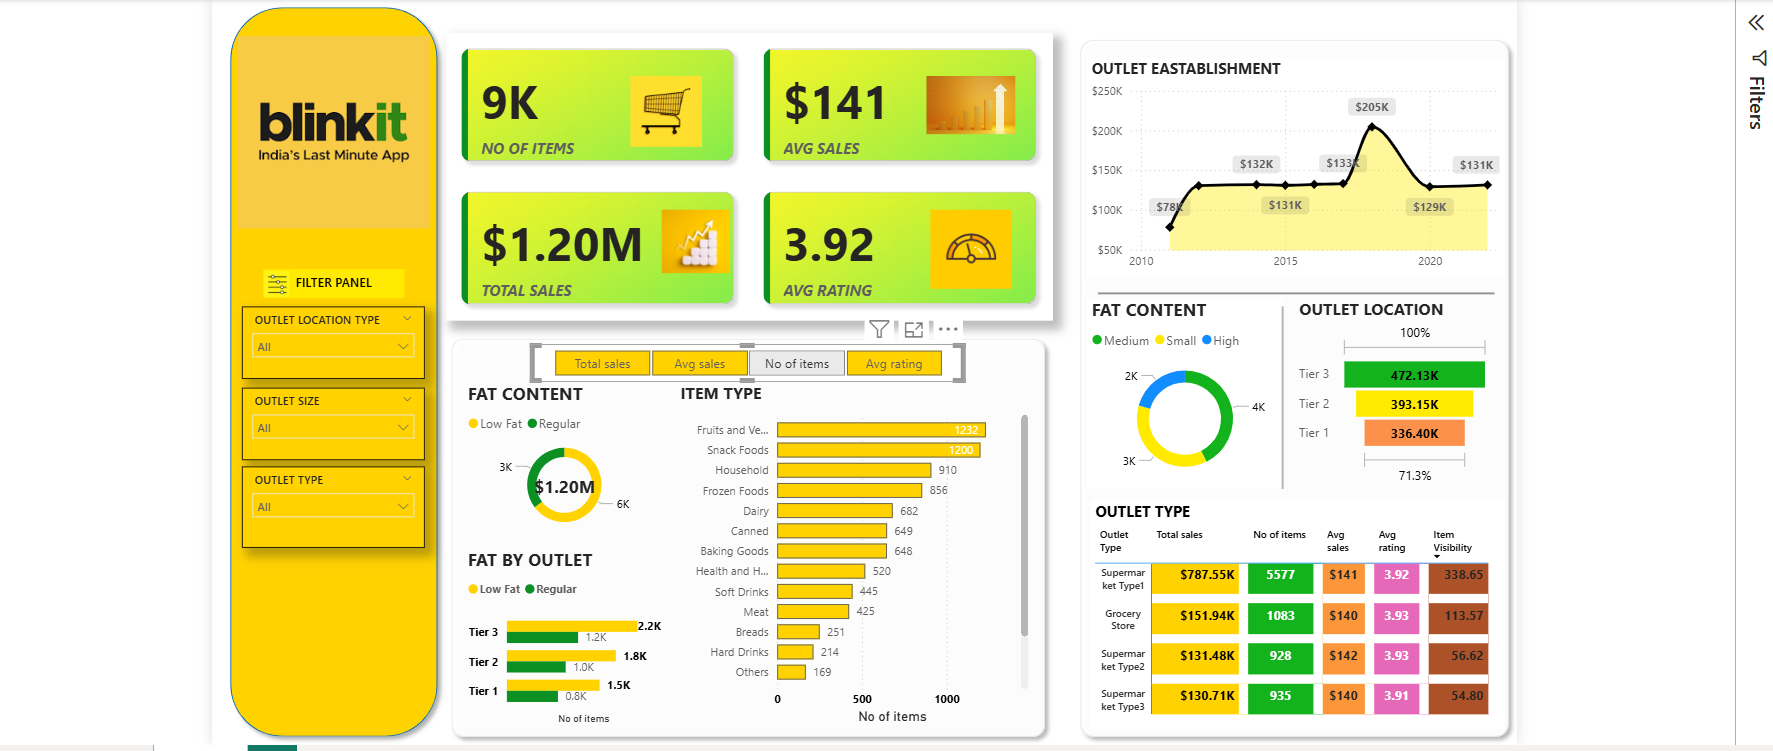

This screenshot's page, from the dashboard's own definition file:
{"tool":"powerbi","page":{"name":"Page 1","canvas":[1400,800],"ordinal":0},"visuals":[{"type":"shape","box":[10.5,0,240.1,800],"z":0},{"type":"image","box":[10.5,34.5,240.1,216.1],"z":1000},{"type":"cardVisual","fields":{"Data":["BlinkIT Grocery Data.No of items","BlinkIT Grocery Data.Avg sales","BlinkIT Grocery Data.Total sales","BlinkIT Grocery Data.Avg rating"]},"box":[250.6,36,651.4,309.2],"z":2000},{"type":"image","box":[475.9,221.2,85.8,77.7],"z":3000},{"type":"image","box":[426.2,78,121.6,85.5],"z":4000},{"type":"image","box":[760.9,78,105.1,72],"z":5000},{"type":"image","box":[735.4,220.6,156.1,94.6],"z":6000},{"type":"shape","box":[248,355.2,654.2,445],"z":7000},{"type":"donutChart","title":"FAT CONTENT","fields":{"Y":["BlinkIT Grocery Data.No of items"],"Category":["BlinkIT Grocery Data.Item Fat Content"]},"box":[269.4,410.2,217.2,167.6],"z":8000},{"type":"card","fields":{"Values":["BlinkIT Grocery Data.Total sales"]},"box":[323.1,494.6,111.3,60.3],"z":9000},{"type":"clusteredBarChart","title":"FAT BY OUTLET","fields":{"Y":["BlinkIT Grocery Data.No of items"],"Series":["BlinkIT Grocery Data.Item Fat Content"],"Category":["BlinkIT Grocery Data.Outlet Location Type"]},"box":[269.4,588.5,217.2,194.4],"z":10000},{"type":"barChart","title":"ITEM TYPE","fields":{"Y":["BlinkIT Grocery Data.No of items"],"Category":["BlinkIT Grocery Data.Item Type"]},"box":[497.3,410.2,383.4,372.7],"z":11000},{"type":"slicer","fields":{"Values":["metrics 3.metrics"]},"box":[341.8,370,465.1,40.2],"z":12000},{"type":"shape","box":[922.3,34.9,477.2,765.4],"z":13000},{"type":"lineChart","title":"OUTLET EASTABLISHMENT","fields":{"Category":["BlinkIT Grocery Data.Outlet Establishment Year"],"Y":["BlinkIT Grocery Data.Total sales"]},"box":[938.3,63,447.7,235.9],"z":14000},{"type":"shape","box":[950.4,166.2,424.9,298.9],"z":15000},{"type":"donutChart","title":"FAT CONTENT","fields":{"Y":["BlinkIT Grocery Data.No of items"],"Category":["BlinkIT Grocery Data.Outlet Size"]},"box":[938.3,320.4,210.5,205.1],"z":16000},{"type":"shape","box":[998.7,329.8,298.9,195.7],"z":17000},{"type":"funnel","title":"OUTLET LOCATION","fields":{"Category":["BlinkIT Grocery Data.Outlet Location Type"],"Y":["Sum(BlinkIT Grocery Data.Sales)"]},"box":[1160.9,320.4,214.5,205.1],"z":18000},{"type":"shape","box":[951.7,410.2,424.9,298.9],"z":19000},{"type":"pivotTable","title":"OUTLET TYPE","fields":{"Rows":["BlinkIT Grocery Data.Outlet Type"],"Values":["BlinkIT Grocery Data.Total sales","BlinkIT Grocery Data.No of items","BlinkIT Grocery Data.Avg sales","BlinkIT Grocery Data.Avg rating","Sum(BlinkIT Grocery Data.Item Visibility)"]},"box":[942.4,537.5,443.7,245.3],"z":20000},{"type":"slicer","fields":{"Values":["BlinkIT Grocery Data.Outlet Location Type"]},"box":[32.2,329.8,195.7,77.7],"z":21000},{"type":"slicer","fields":{"Values":["BlinkIT Grocery Data.Outlet Size"]},"box":[32.2,416.9,195.7,77.7],"z":22000},{"type":"slicer","fields":{"Values":["BlinkIT Grocery Data.Item Type"]},"box":[32.2,501.3,195.7,87.1],"z":23000},{"type":"textbox","box":[55,289.5,151.5,30.8],"z":24000},{"type":"image","box":[41.6,286.9,56.3,37.5],"z":25000}]}

Visuals, with their boxes on the page's 1400x800 design canvas (x1, y1, x2, y2). These are canvas units, not pixel positions in the 1773x751 screenshot, which may show the page scaled, cropped or inside an application window:
shape: l=10, t=0, r=251, b=800
image: l=10, t=34, r=251, b=251
cardVisual - BlinkIT Grocery Data.No of items x BlinkIT Grocery Data.Avg sales: l=251, t=36, r=902, b=345
image: l=476, t=221, r=562, b=299
image: l=426, t=78, r=548, b=164
image: l=761, t=78, r=866, b=150
image: l=735, t=221, r=892, b=315
shape: l=248, t=355, r=902, b=800
"FAT CONTENT" donutChart: l=269, t=410, r=487, b=578
card - BlinkIT Grocery Data.Total sales: l=323, t=495, r=434, b=555
"FAT BY OUTLET" clusteredBarChart: l=269, t=588, r=487, b=783
"ITEM TYPE" barChart: l=497, t=410, r=881, b=783
slicer - metrics 3.metrics: l=342, t=370, r=807, b=410
shape: l=922, t=35, r=1400, b=800
"OUTLET EASTABLISHMENT" lineChart: l=938, t=63, r=1386, b=299
shape: l=950, t=166, r=1375, b=465
"FAT CONTENT" donutChart: l=938, t=320, r=1149, b=526
shape: l=999, t=330, r=1298, b=526
"OUTLET LOCATION" funnel: l=1161, t=320, r=1375, b=526
shape: l=952, t=410, r=1377, b=709
"OUTLET TYPE" pivotTable: l=942, t=538, r=1386, b=783
slicer - BlinkIT Grocery Data.Outlet Location Type: l=32, t=330, r=228, b=408
slicer - BlinkIT Grocery Data.Outlet Size: l=32, t=417, r=228, b=495
slicer - BlinkIT Grocery Data.Item Type: l=32, t=501, r=228, b=588
textbox: l=55, t=290, r=206, b=320
image: l=42, t=287, r=98, b=324
